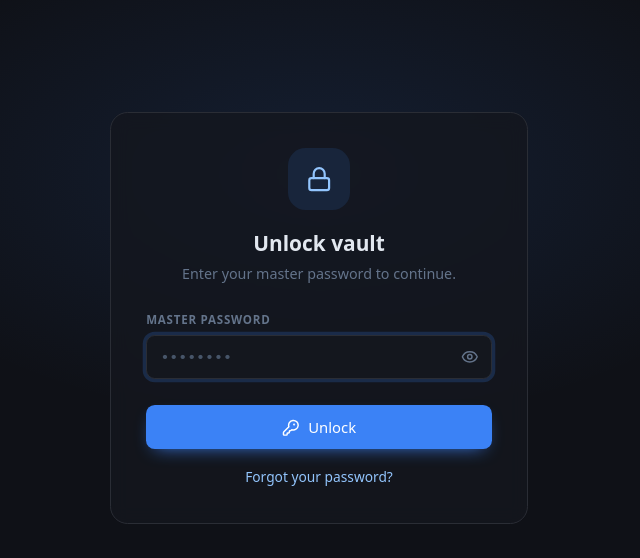
Scenario: UnlockScreen unlock › surfaces a backend error on wrong password
Expected: the heading "Unlock vault" is shown, left=253, top=228, right=385, bottom=259
Type "nope" into the password field with placeholder "••••••••". click: (319, 357)
box: left=146, top=335, right=492, bottom=379
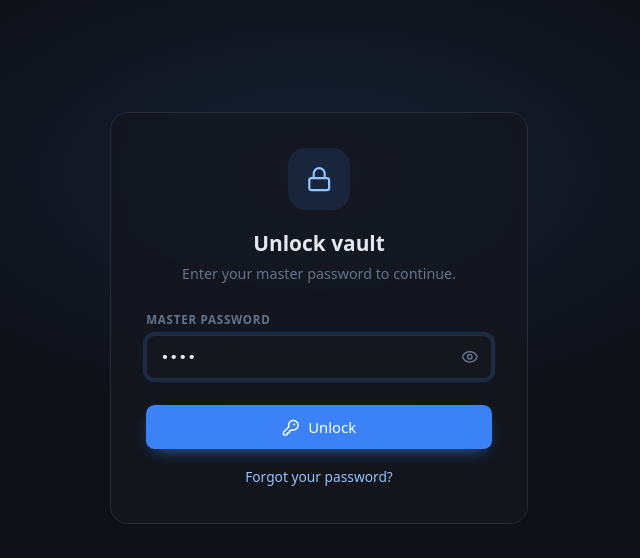
Click the button "Unlock". click: (319, 427)
box: left=146, top=405, right=492, bottom=449
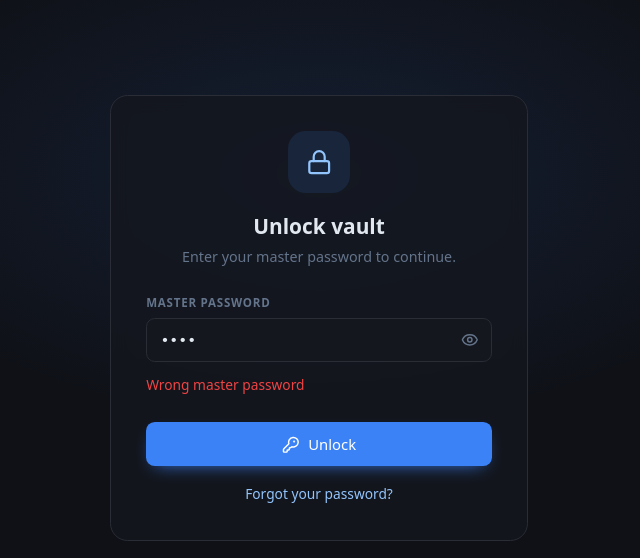
Result: the message reads "Wrong master password" at left=146, top=375, right=305, bottom=394
